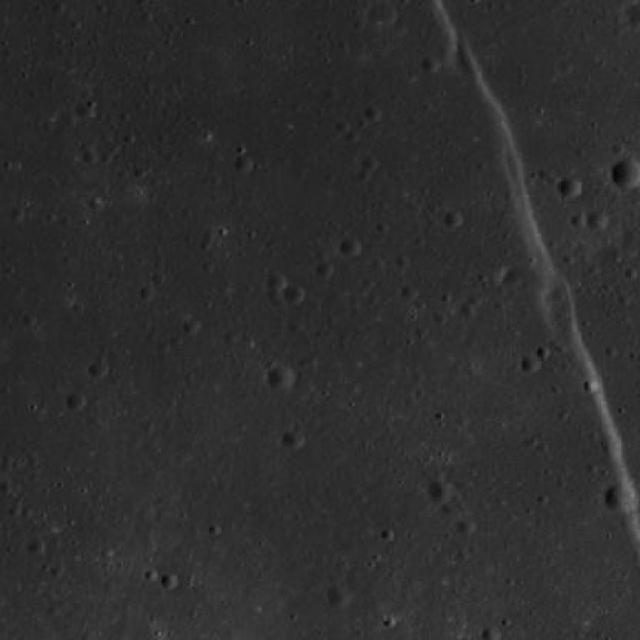crater: (602, 482, 636, 513), (611, 156, 640, 190), (367, 0, 396, 26), (267, 365, 295, 390), (325, 584, 350, 608), (426, 481, 452, 504), (557, 176, 580, 198), (586, 210, 608, 230), (338, 236, 360, 256), (282, 429, 304, 449), (74, 100, 94, 120), (283, 284, 303, 304), (456, 516, 476, 535), (66, 392, 86, 410), (420, 56, 440, 73), (266, 273, 286, 290), (520, 356, 540, 373), (315, 262, 333, 280), (160, 572, 178, 590), (26, 538, 45, 554), (88, 362, 107, 378), (443, 212, 462, 228), (364, 106, 382, 122), (454, 302, 472, 318), (182, 318, 200, 333), (235, 157, 252, 172), (480, 627, 497, 640)
